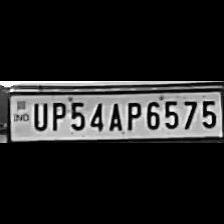4: (86, 98, 106, 132)
5: (196, 97, 218, 129), (66, 98, 86, 132), (161, 97, 179, 129)
6: (142, 97, 160, 130)
7: (179, 97, 197, 129)
A: (104, 99, 124, 131)
P: (47, 98, 66, 132), (123, 98, 141, 132)
U: (29, 99, 48, 131)
